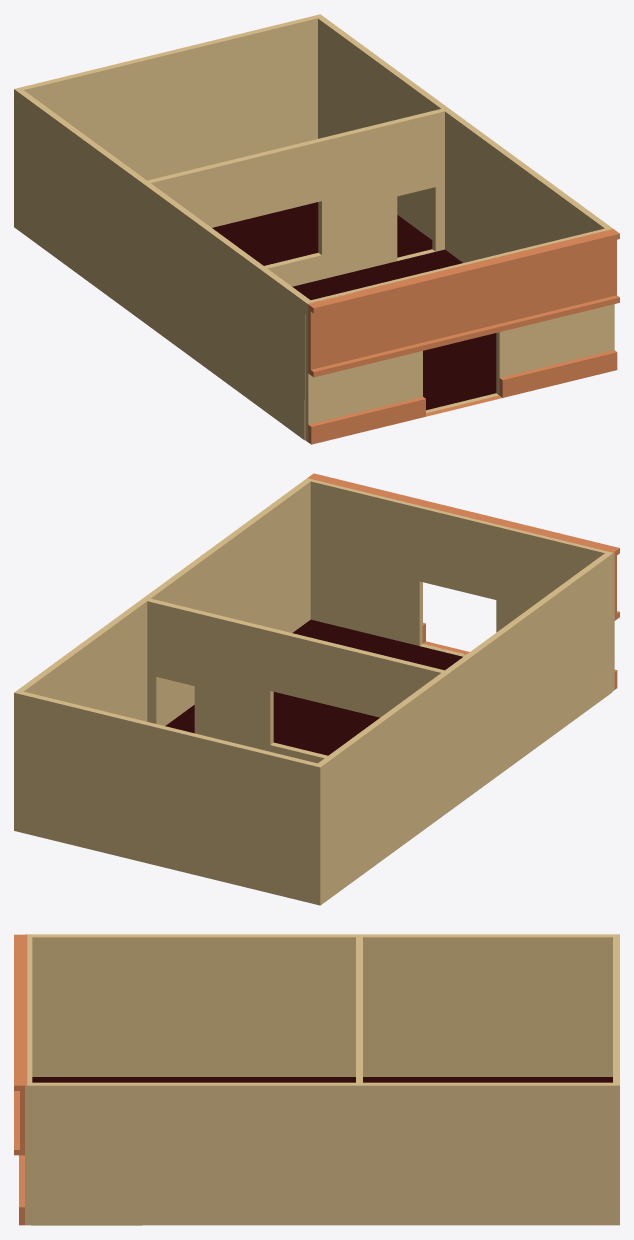
Rendered from Restaurant2.fbx.
3 views of the same model, one above another, from view 1: azimuth 30°, elevation 25°; view 2: azimuth 150°, elevation 25°; view 3: azimuth 270°, elevation 25° (orthographic).
Parts seen in each view (by area): view 1: Side walls, Inner wall, Deco 2, Front wall, Base 180 x 300, Deco; view 2: Inner wall, Side walls, Front wall, Base 180 x 300, Deco 2; view 3: Side walls, Base 180 x 300, Deco 2, Inner wall, Front wall, Deco.
Boxes of the visible parts, bbox=[...] form: Side walls: bbox=[14, 14, 611, 440]; Inner wall: bbox=[14, 14, 450, 286]; Deco 2: bbox=[307, 229, 619, 377]; Front wall: bbox=[305, 227, 614, 441]; Base 180 x 300: bbox=[212, 202, 496, 410]; Deco: bbox=[308, 350, 617, 444]; Inner wall: bbox=[14, 598, 449, 905]; Side walls: bbox=[14, 480, 612, 905]; Front wall: bbox=[305, 478, 614, 691]; Base 180 x 300: bbox=[165, 619, 464, 755]; Deco 2: bbox=[307, 473, 619, 620]; Side walls: bbox=[31, 934, 619, 1225]; Base 180 x 300: bbox=[32, 1077, 612, 1082]; Deco 2: bbox=[14, 934, 27, 1155]; Inner wall: bbox=[356, 934, 619, 1085]; Front wall: bbox=[25, 934, 32, 1225]; Deco: bbox=[19, 1155, 24, 1225].
Bounding box in the file's own units: 18081 × 7761 × 30522.
